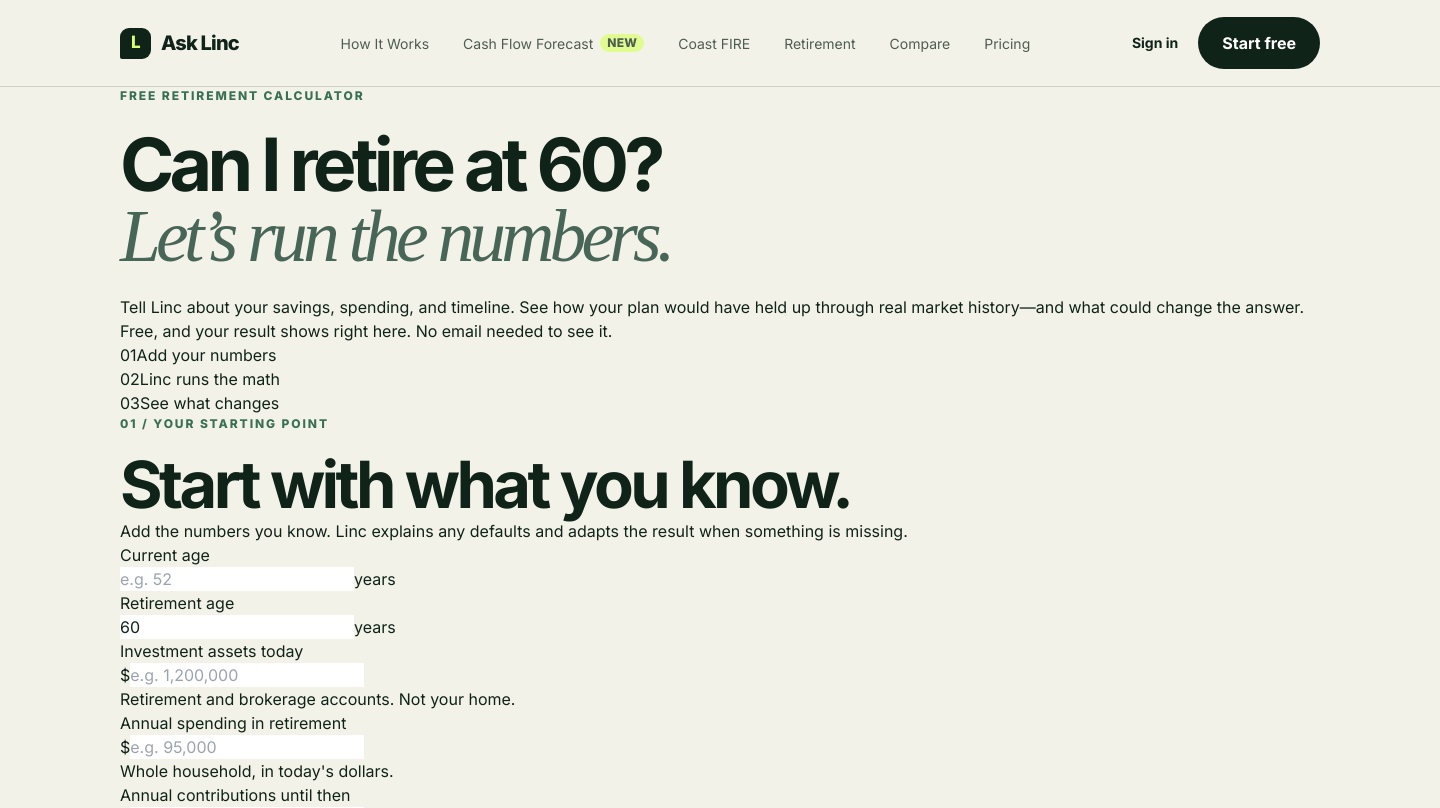
Test: groups the whole part while a decimal is being typed
This screenshot has width=1440, height=808.
Type "1200000" into the field labelled "Investment assets today".
click(247, 675); type("1200000")  # box [130, 663, 364, 687]
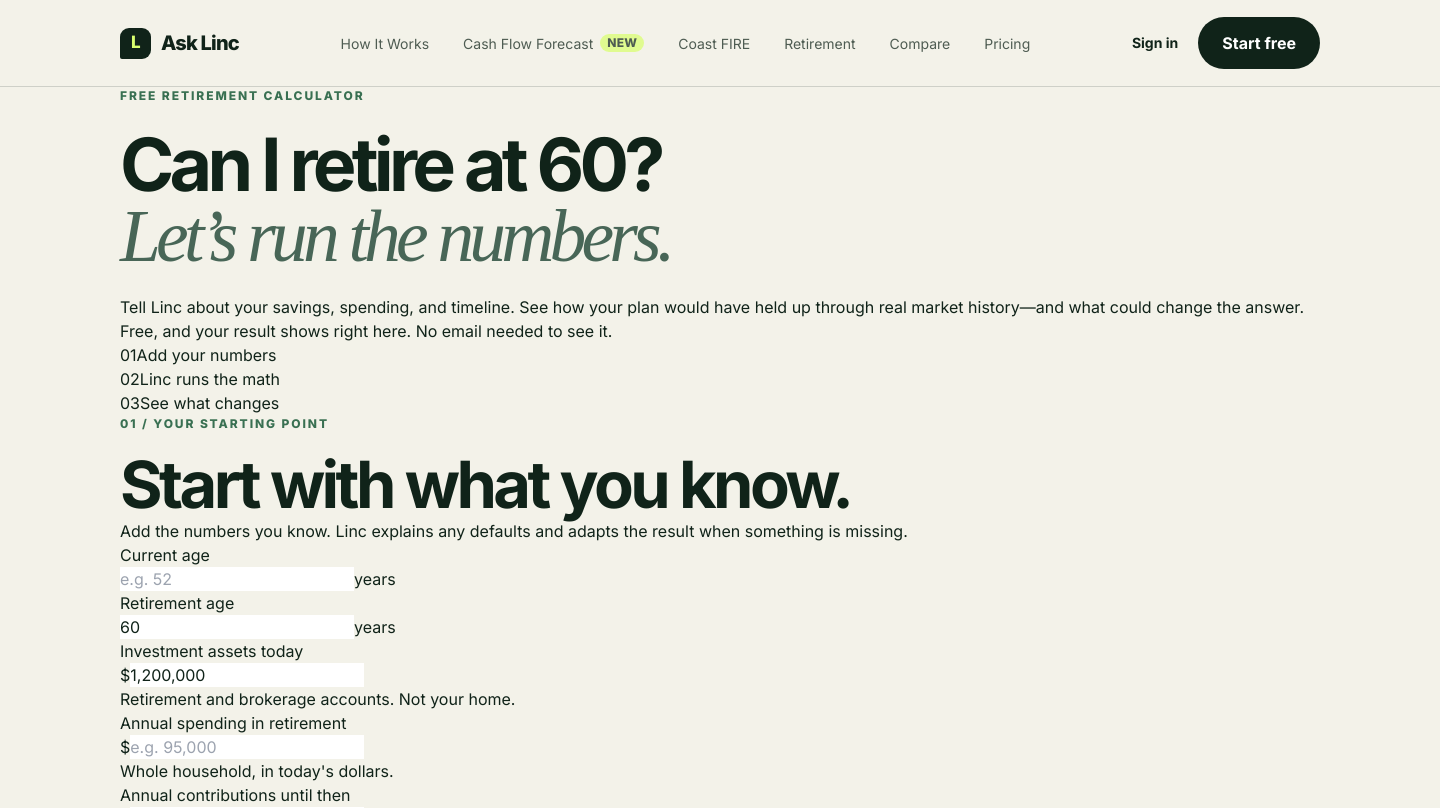
Check: the field labelled "Investment assets today" holds "1,200,000"
Replace the text in the field labelled "Investment assets today" with "1200.5" at (247, 675), box [130, 663, 364, 687]
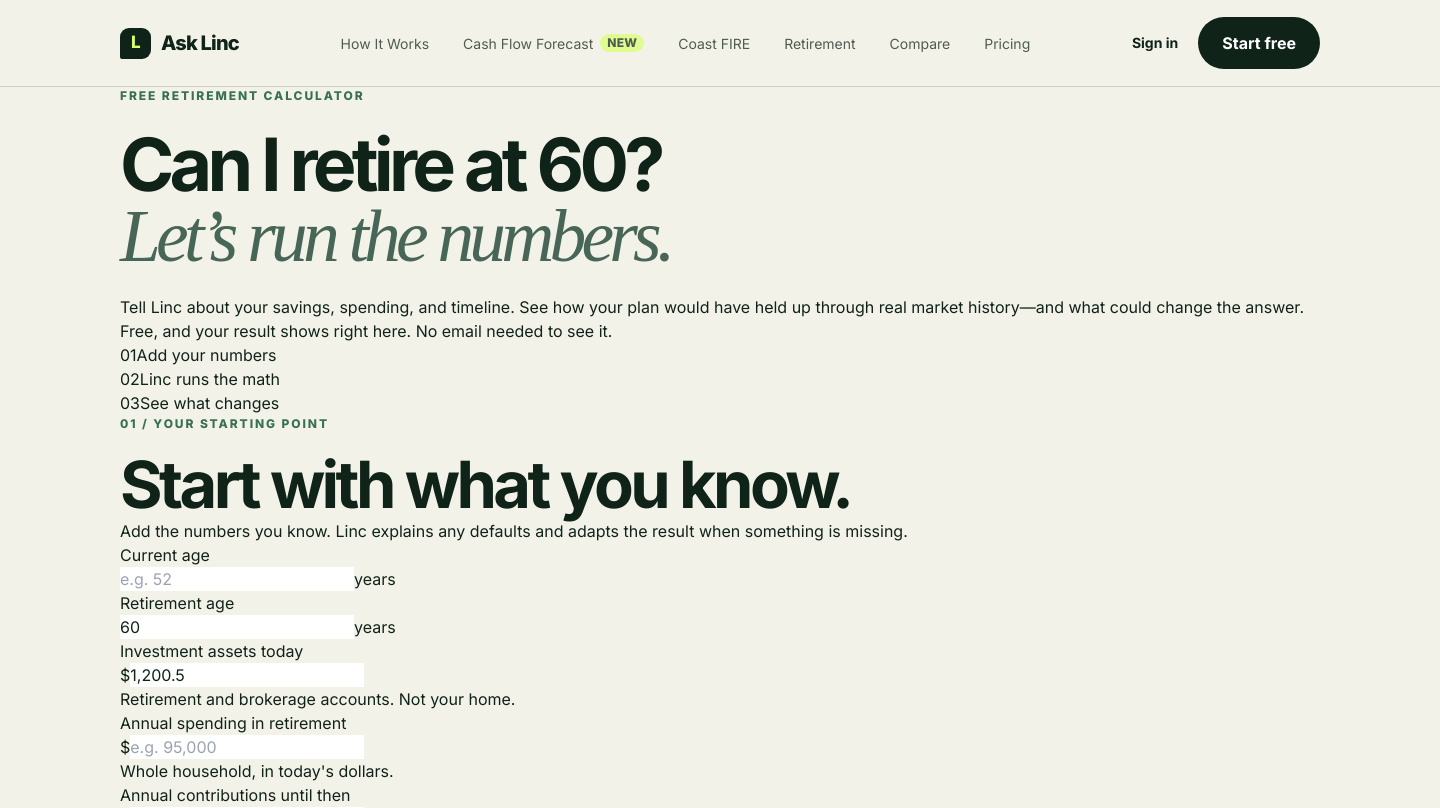
Check: the field labelled "Investment assets today" holds "1,200.5"
Replace the text in the field labelled "Investment assets today" with "1.2.3" at (247, 675), box [130, 663, 364, 687]
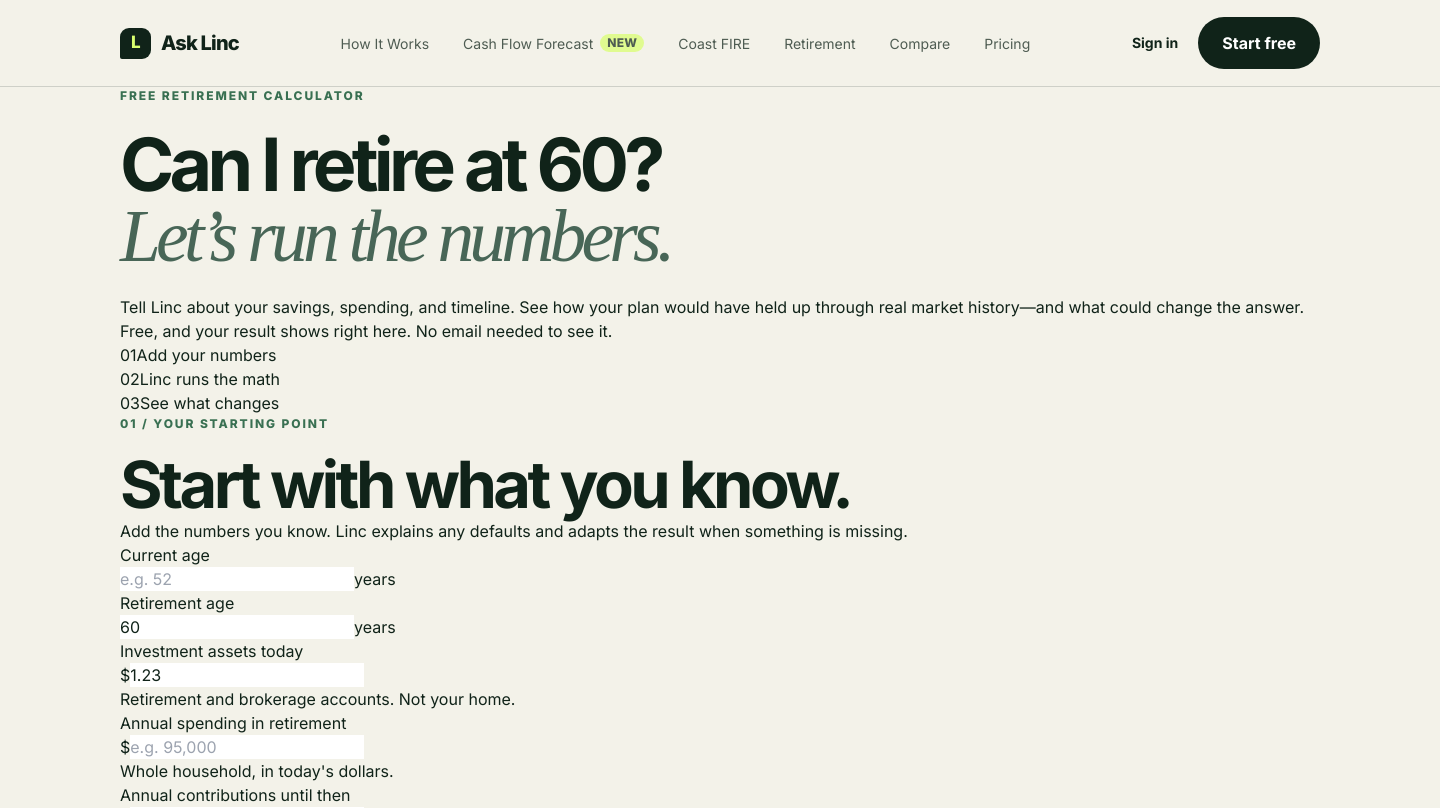
Check: the field labelled "Investment assets today" holds "1.23", box [130, 663, 364, 687]
